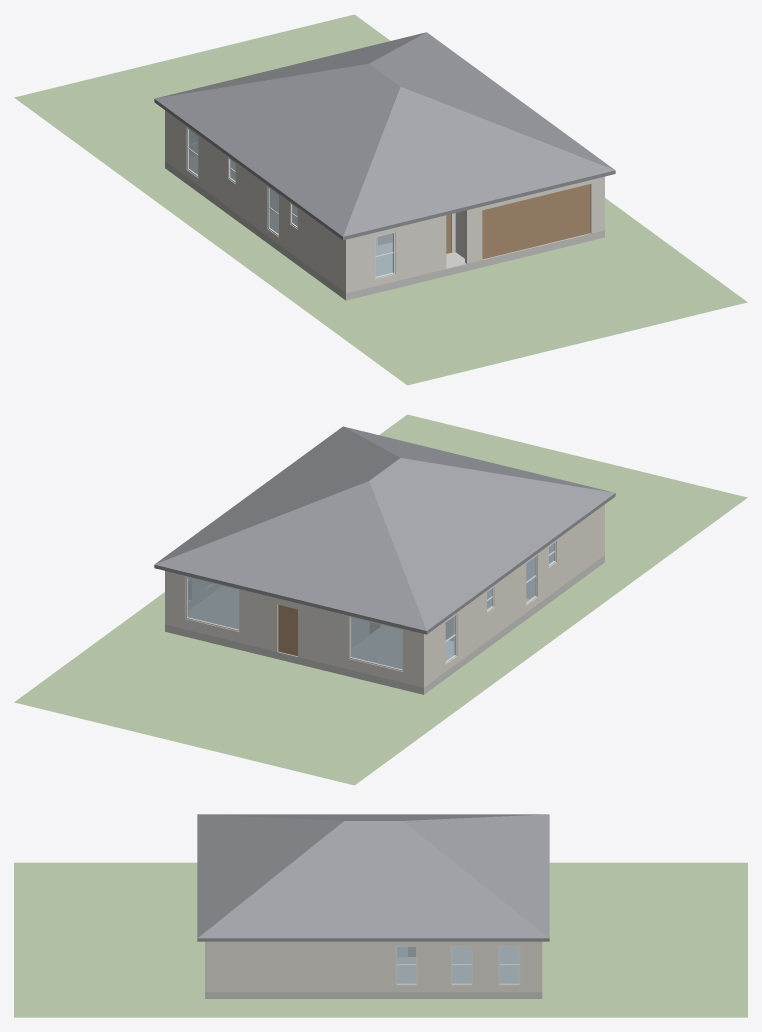
The picture shows the model from 3 angles, top to bottom: view 1: azimuth 30°, elevation 25°; view 2: azimuth 150°, elevation 25°; view 3: azimuth 270°, elevation 25°; orthographic projection. The views are drawn at different scales.
Parts seen in each view (by area): view 1: Lot, Hip roof, Wall ext-left, Wall ext-front, Door GD, Floor First Floor, Window N01; view 2: Lot, Hip roof, Wall ext-back, Wall ext-left, Floor First Floor, Window S01, Window S02, Door D13; view 3: Lot, Hip roof, Wall ext-right, Floor First Floor, Window N08, Window N07, Window N10.
Part boxes in pixels (x1=…): Lot: x1=14, y1=14, x2=747, y2=385; Hip roof: x1=154, y1=32, x2=615, y2=240; Wall ext-left: x1=167, y1=112, x2=343, y2=291; Wall ext-front: x1=344, y1=176, x2=604, y2=293; Door GD: x1=482, y1=184, x2=590, y2=259; Floor First Floor: x1=165, y1=155, x2=604, y2=300; Window N01: x1=375, y1=233, x2=393, y2=276; Lot: x1=14, y1=414, x2=747, y2=785; Hip roof: x1=154, y1=426, x2=615, y2=634; Wall ext-back: x1=165, y1=571, x2=425, y2=687; Wall ext-left: x1=426, y1=506, x2=602, y2=685; Floor First Floor: x1=165, y1=555, x2=604, y2=694; Window S01: x1=351, y1=617, x2=402, y2=669; Window S02: x1=187, y1=577, x2=238, y2=629; Door D13: x1=278, y1=605, x2=297, y2=656; Lot: x1=14, y1=862, x2=747, y2=1017; Hip roof: x1=197, y1=814, x2=549, y2=941; Wall ext-right: x1=208, y1=941, x2=538, y2=992; Floor First Floor: x1=205, y1=947, x2=542, y2=998; Window N08: x1=499, y1=946, x2=519, y2=983; Window N07: x1=452, y1=946, x2=471, y2=983; Window N10: x1=397, y1=946, x2=416, y2=983.
Bounding box in the file's own units: 15.24 × 5.46 × 30.48.
